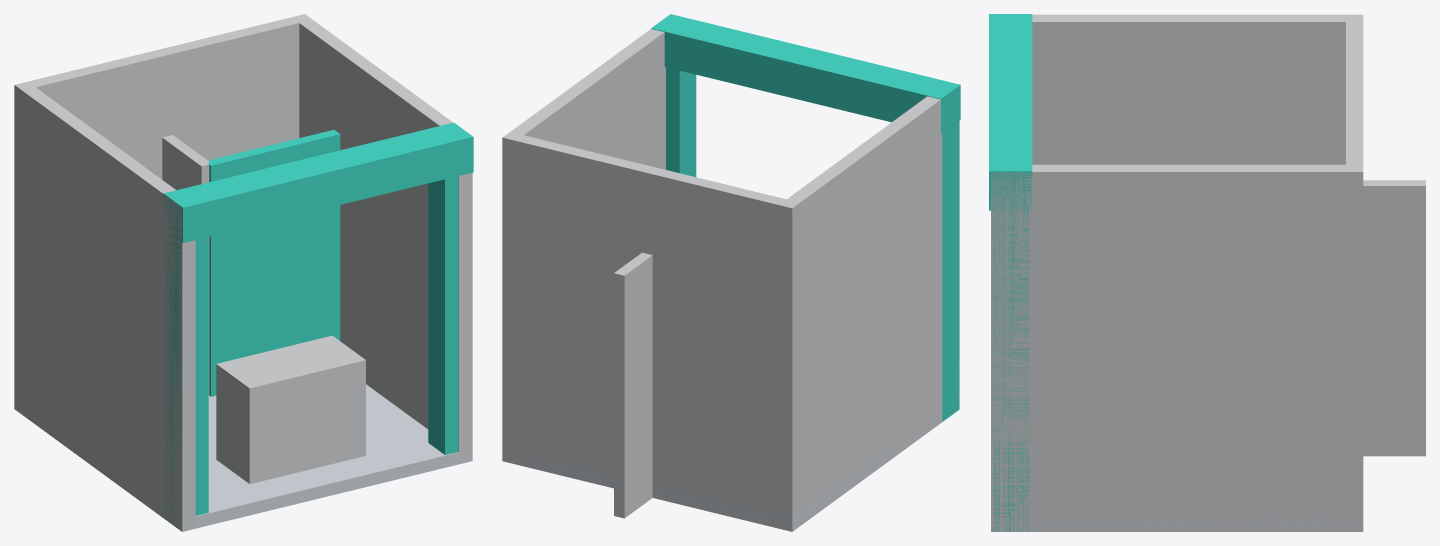
3 renders of one model, left to right at view 1: azimuth 30°, elevation 25°; view 2: azimuth 150°, elevation 25°; view 3: azimuth 270°, elevation 25°, orthographic. The views are drawn at different scales.
Parts seen in each view (by area): view 1: Exhibition Booth Concept; view 2: Exhibition Booth Concept; view 3: Exhibition Booth Concept.
Boxes of the visible parts, x1,y1,x2,y2 form: Exhibition Booth Concept: (14, 14, 473, 531); Exhibition Booth Concept: (502, 14, 960, 531); Exhibition Booth Concept: (989, 14, 1425, 531).
Size of the model in its own units: 3 by 3.2 by 3.52.
